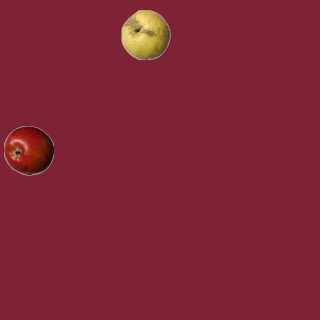Apple Braeburn: (3, 125, 53, 175)
Apple Golden 1: (120, 9, 170, 59)
